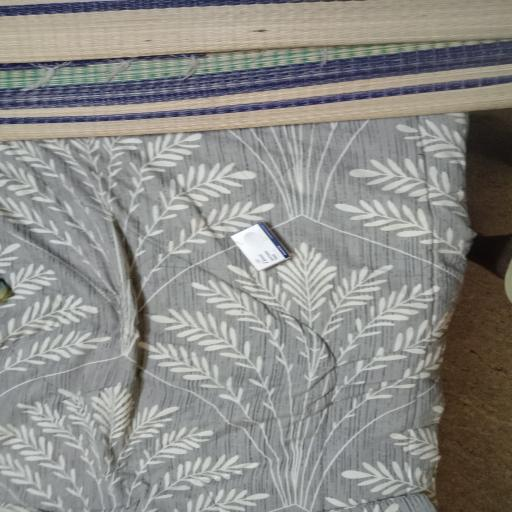Dove`1: (230, 214, 292, 279)
